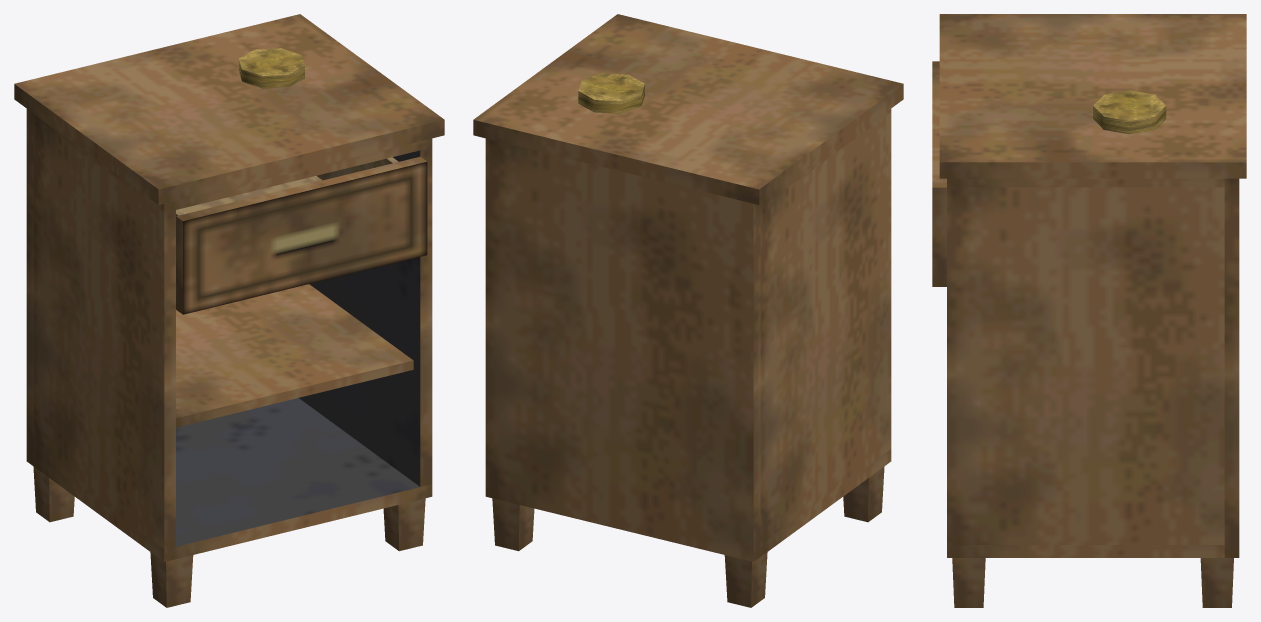
The model's file is nightstand_oak.obj.
3 views of the same model, side by side, from view 1: azimuth 30°, elevation 25°; view 2: azimuth 150°, elevation 25°; view 3: azimuth 270°, elevation 25° (orthographic). The views are drawn at different scales.
Parts seen in each view (by area): view 1: nightstand_oak, nightstand_oak_drawer; view 2: nightstand_oak; view 3: nightstand_oak, nightstand_oak_drawer.
Part boxes in pixels (x1,y1,x2,y2): nightstand_oak: (14, 14, 444, 607); nightstand_oak_drawer: (176, 156, 427, 314); nightstand_oak: (473, 14, 903, 607); nightstand_oak: (939, 14, 1246, 607); nightstand_oak_drawer: (932, 61, 946, 286).
Bounding box in the file's own units: 0.48 × 0.705 × 0.43.
Materials: 1 (1 with a texture image).
